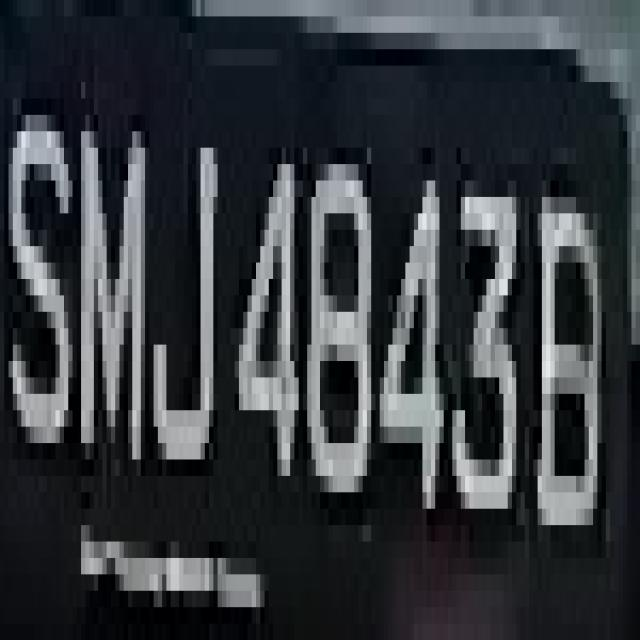3: (452, 131, 525, 542)
4: (226, 82, 303, 509), (376, 148, 452, 525)
8: (294, 115, 380, 525)
B: (525, 164, 610, 574)
J: (150, 66, 230, 492)
M: (72, 66, 150, 476)
S: (9, 66, 81, 492)
